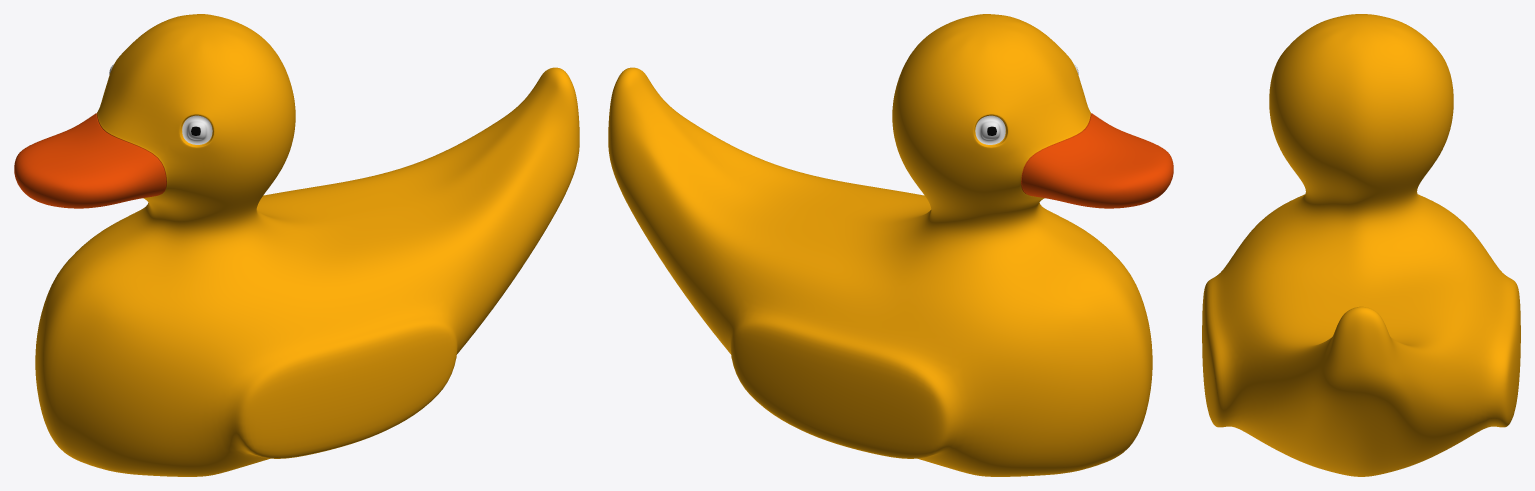
File: patito.fbx
3 views of the same model, side by side, from view 1: azimuth 30°, elevation 25°; view 2: azimuth 150°, elevation 25°; view 3: azimuth 270°, elevation 25° (orthographic). The views are drawn at different scales.
Parts seen in each view (by area): view 1: Cuerpo, Pico, Ojos; view 2: Cuerpo, Pico, Ojos; view 3: Cuerpo.
Boxes of the visible parts, x1,y1,x2,y2 form: Cuerpo: (35,14,579,476); Pico: (14,113,165,208); Ojos: (109,64,212,144); Cuerpo: (608,14,1152,476); Pico: (1022,113,1173,208); Ojos: (975,64,1078,144); Cuerpo: (1202,14,1520,476).
Size of the model in its own units: 495 by 351 by 265.
